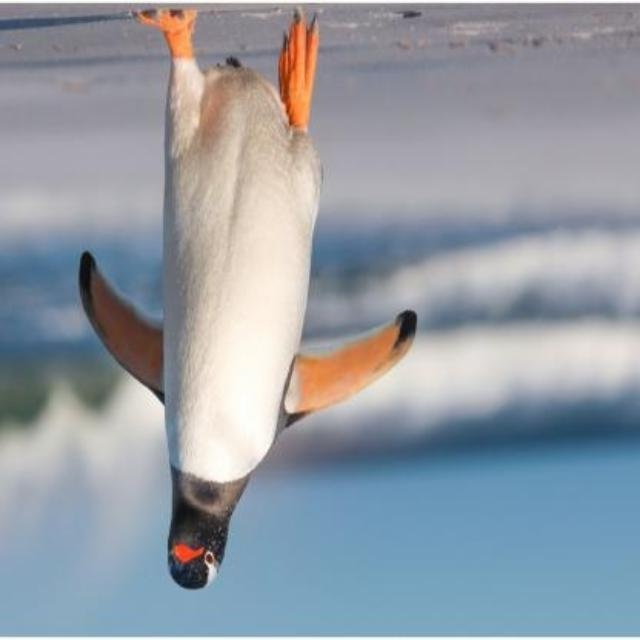penguin: (76, 7, 418, 590)
